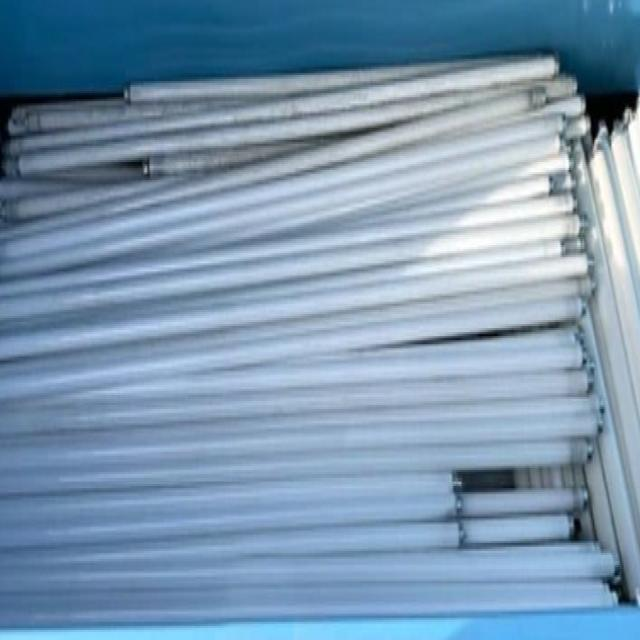electronic: (0, 46, 639, 628), (587, 75, 639, 608)
